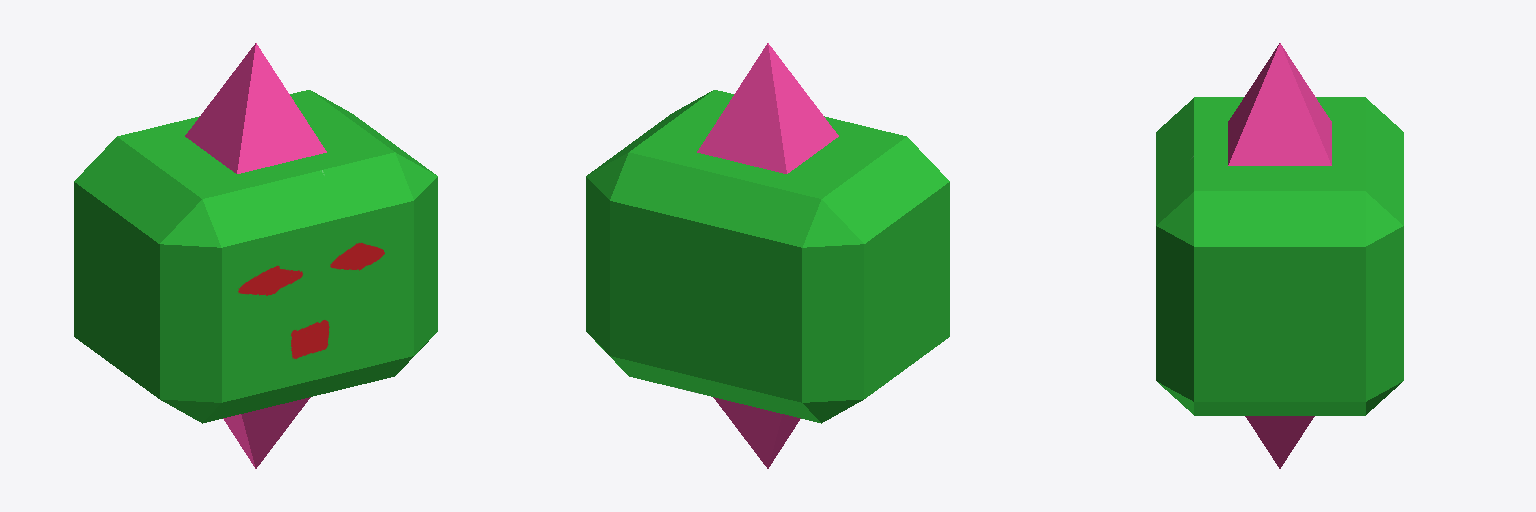
The picture shows the model from 3 angles: view 1: azimuth 30°, elevation 25°; view 2: azimuth 150°, elevation 25°; view 3: azimuth 270°, elevation 25°; orthographic projection.
Visible parts, largest first — view 1: 立方体.001; view 2: 立方体.001; view 3: 立方体.001.
Boxes of the visible parts, box(x1,y1,x2,y2) form: 立方体.001: box(74, 43, 437, 468); 立方体.001: box(586, 43, 949, 468); 立方体.001: box(1156, 43, 1403, 468).
Bounding box in the file's own units: 1.01 × 1.47 × 0.7734.
Materials: 1 (1 with a texture image).